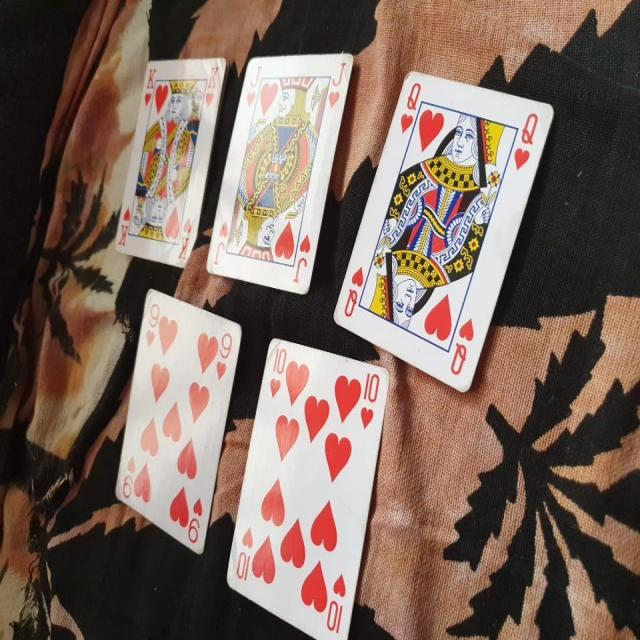10 of hearts: (216, 332, 389, 636)
9 of hearts: (115, 282, 246, 560)
jack of hearts: (202, 51, 356, 298)
king of hearts: (108, 57, 232, 270)
queen of hearts: (331, 62, 558, 401)
